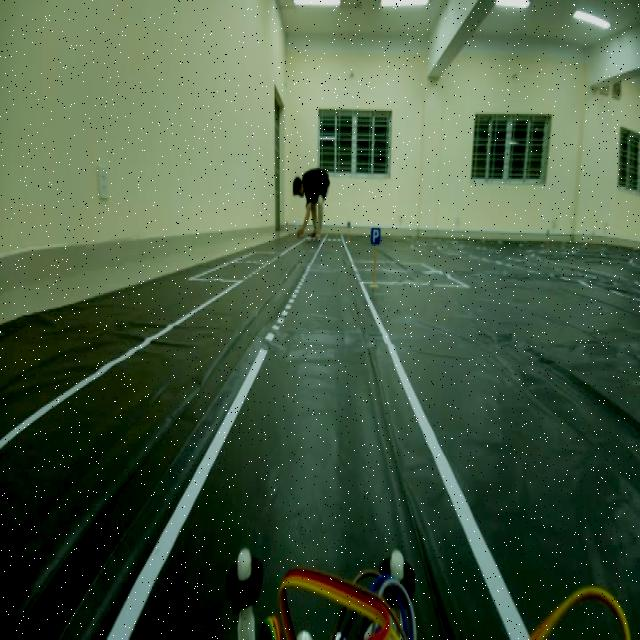parking: (369, 220, 383, 254)
